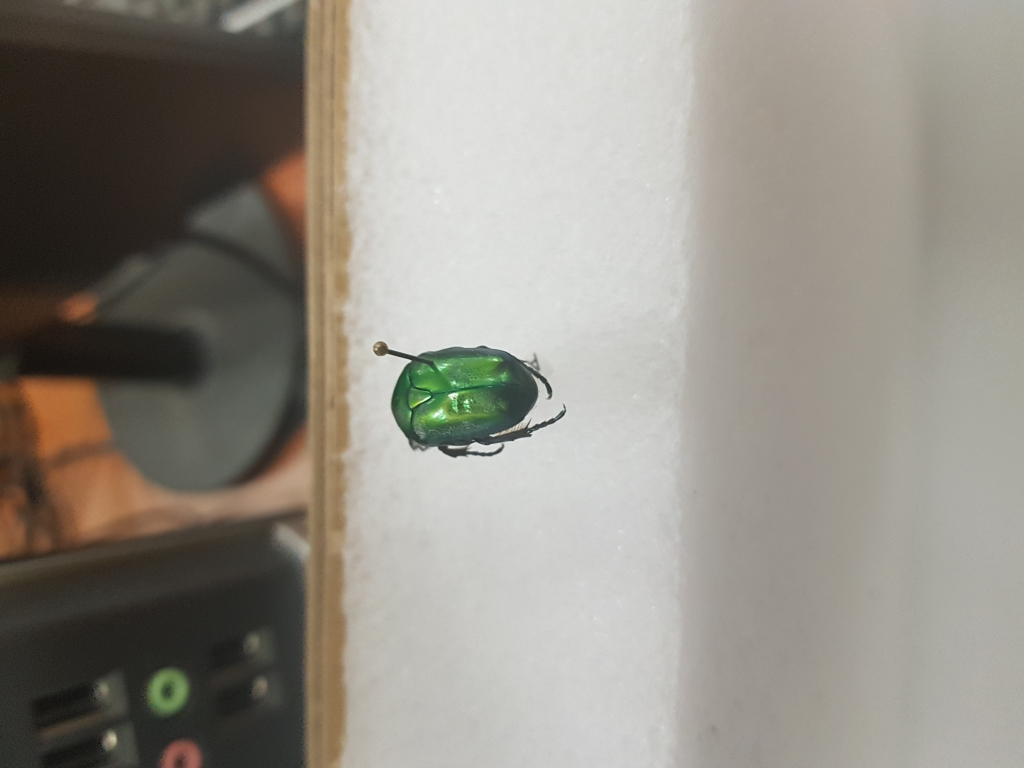Protaetia_cuprea_ignicollis: (387, 345, 571, 460)
